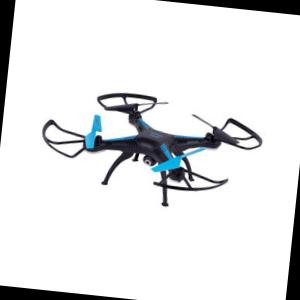drone: (28, 69, 272, 214)
